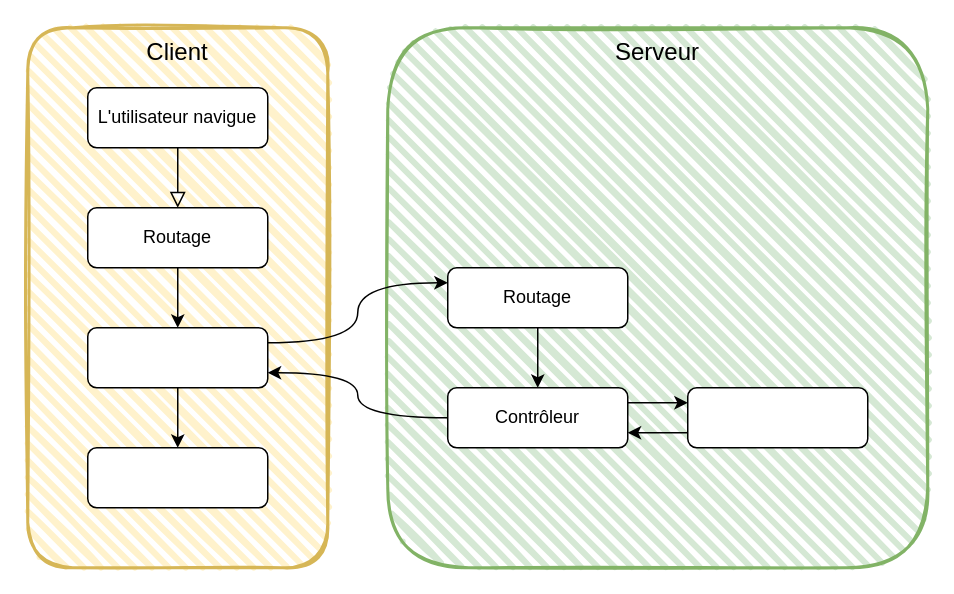
The diagram is 954 pixels wide and 594 high, and some of its shapes have lost their labels. Each missing label, with the centre of its shape:
"Base de données" goes at (x=777, y=417).
"Chargement des données" goes at (x=177, y=357).
"Rendu (Vue)" goes at (x=177, y=477).
